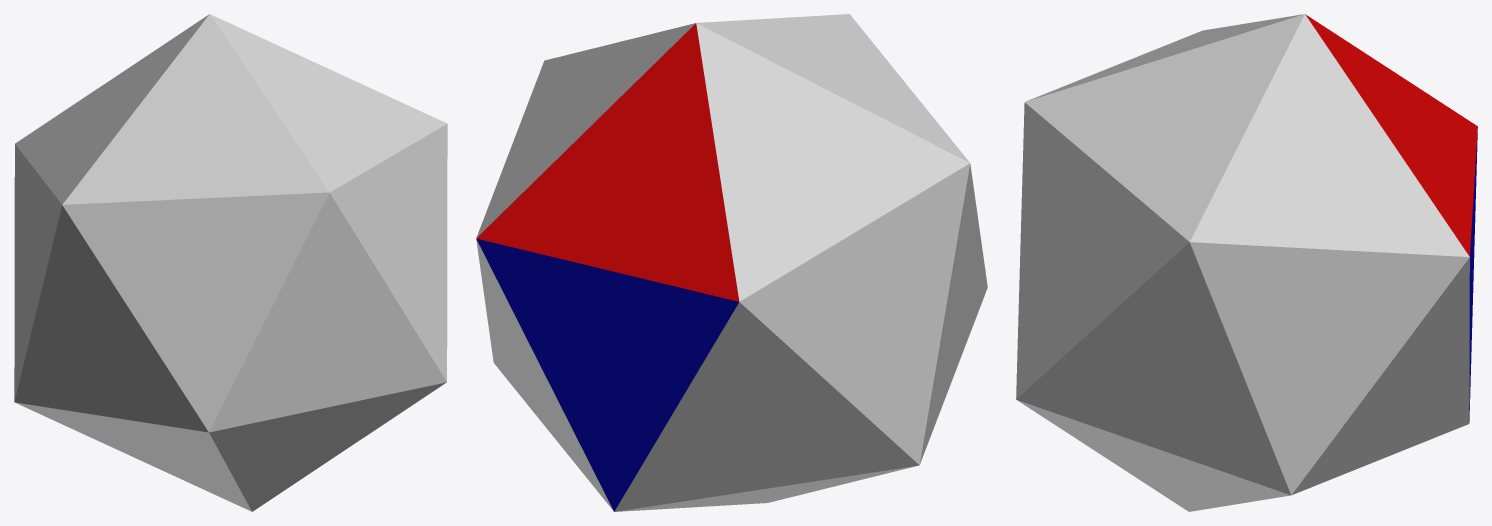
Rendered from icosahedron.dae.
3 views of the same model, side by side, from view 1: azimuth 30°, elevation 25°; view 2: azimuth 150°, elevation 25°; view 3: azimuth 270°, elevation 25° (orthographic). The views are drawn at different scales.
Visible parts, largest first — view 1: Icosphere; view 2: Icosphere; view 3: Icosphere.
Boxes of the visible parts, bbox=[...] form: Icosphere: bbox=[14, 14, 447, 511]; Icosphere: bbox=[476, 14, 987, 511]; Icosphere: bbox=[1016, 14, 1477, 511].
Size of the model in its own units: 1.71 by 1.63 by 1.96.
